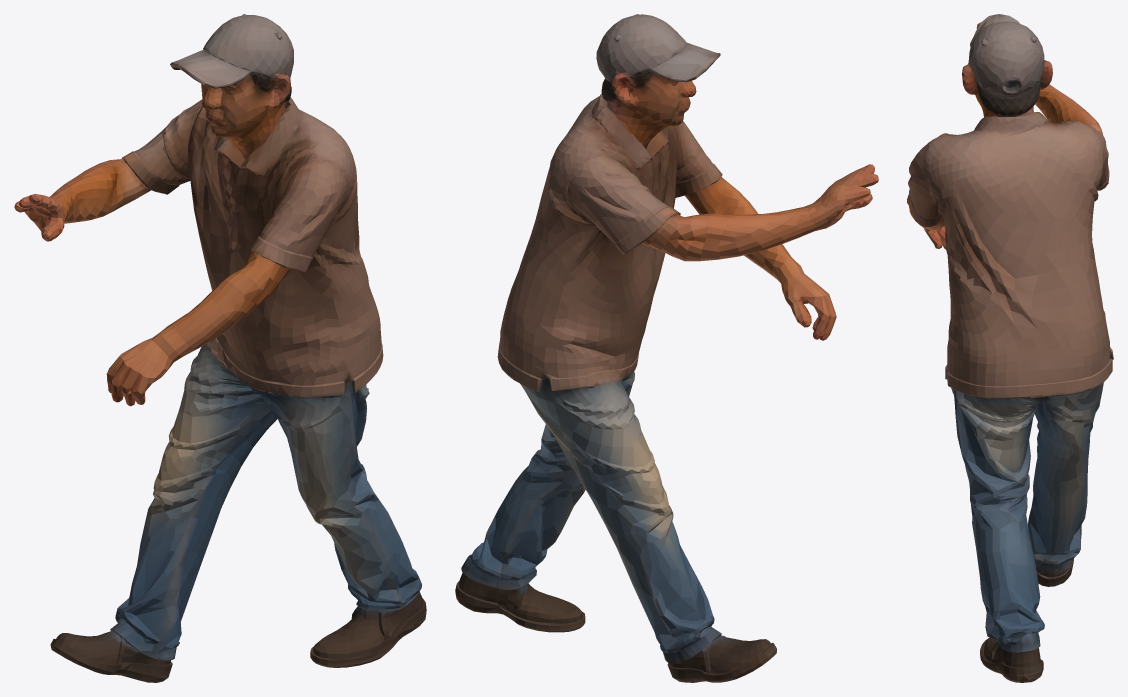
3 renders of one model, left to right at view 1: azimuth 30°, elevation 25°; view 2: azimuth 150°, elevation 25°; view 3: azimuth 270°, elevation 25°, orthographic. The views are drawn at different scales.
Parts seen in each view (by area): view 1: texture_pbr_v128; view 2: texture_pbr_v128; view 3: texture_pbr_v128.
Boxes of the visible parts, bbox=[...] form: texture_pbr_v128: bbox=[14, 14, 426, 682]; texture_pbr_v128: bbox=[455, 14, 878, 682]; texture_pbr_v128: bbox=[907, 14, 1113, 682].
Bounding box in the file's own units: 0.6912 × 1.03 × 0.3266.
Materials: 1 (1 with a texture image).
